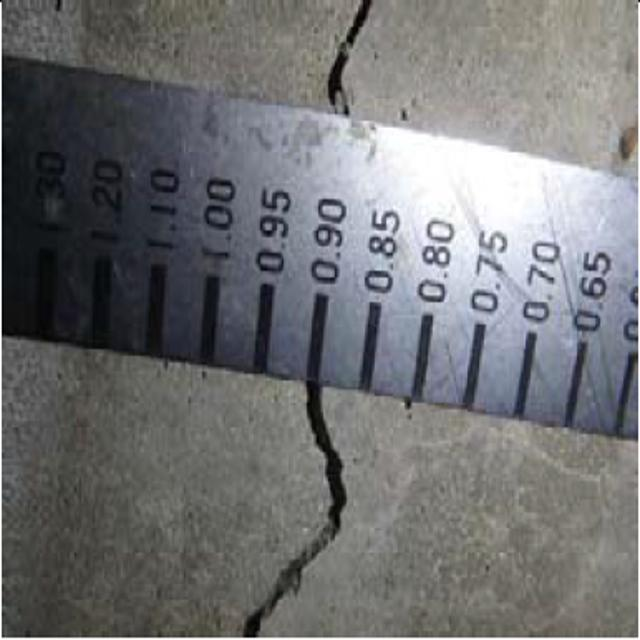crack: (219, 374, 354, 640), (320, 1, 387, 146)
